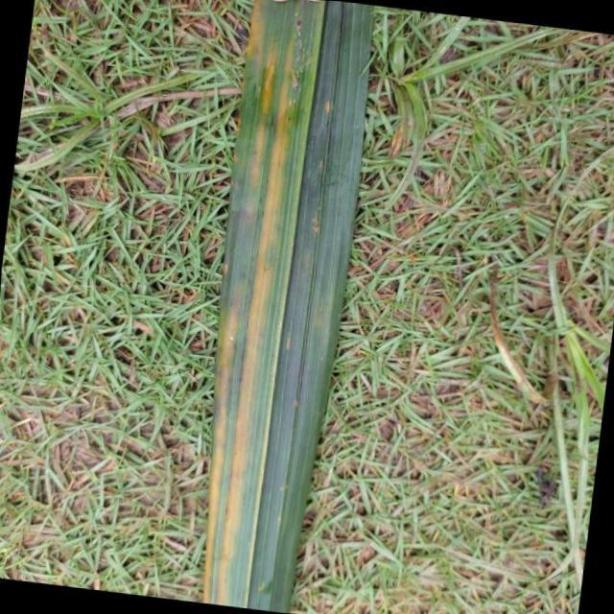Megnesium: (203, 0, 374, 588)
